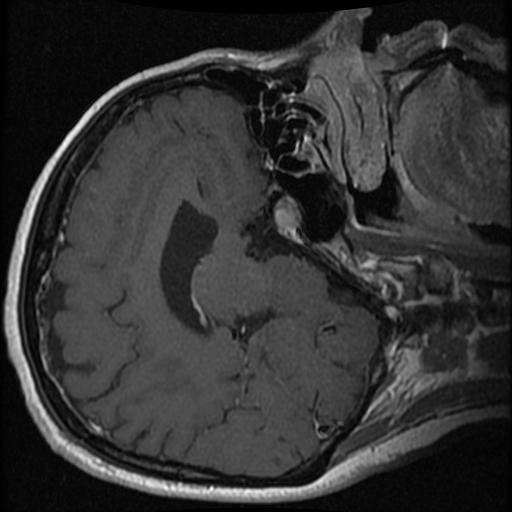pituitary tumour: (272, 194, 302, 240)
